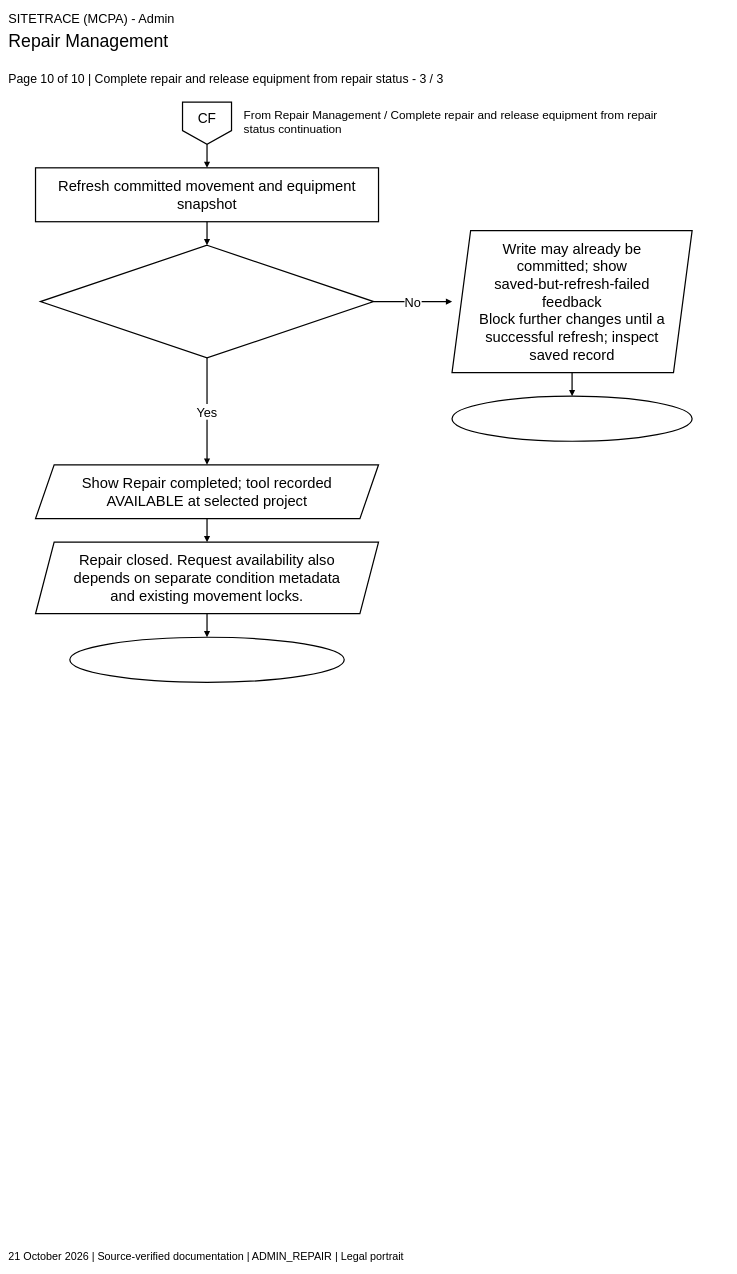
The diagram is 737 pixels wide and 1274 high, and some of its shapes have lost their labels. The centre of each missing label's shape, as x and y in pixels:
Committed records refreshed?: the point at 207,301
END: the point at 207,659
END ATTEMPT: the point at 572,418
